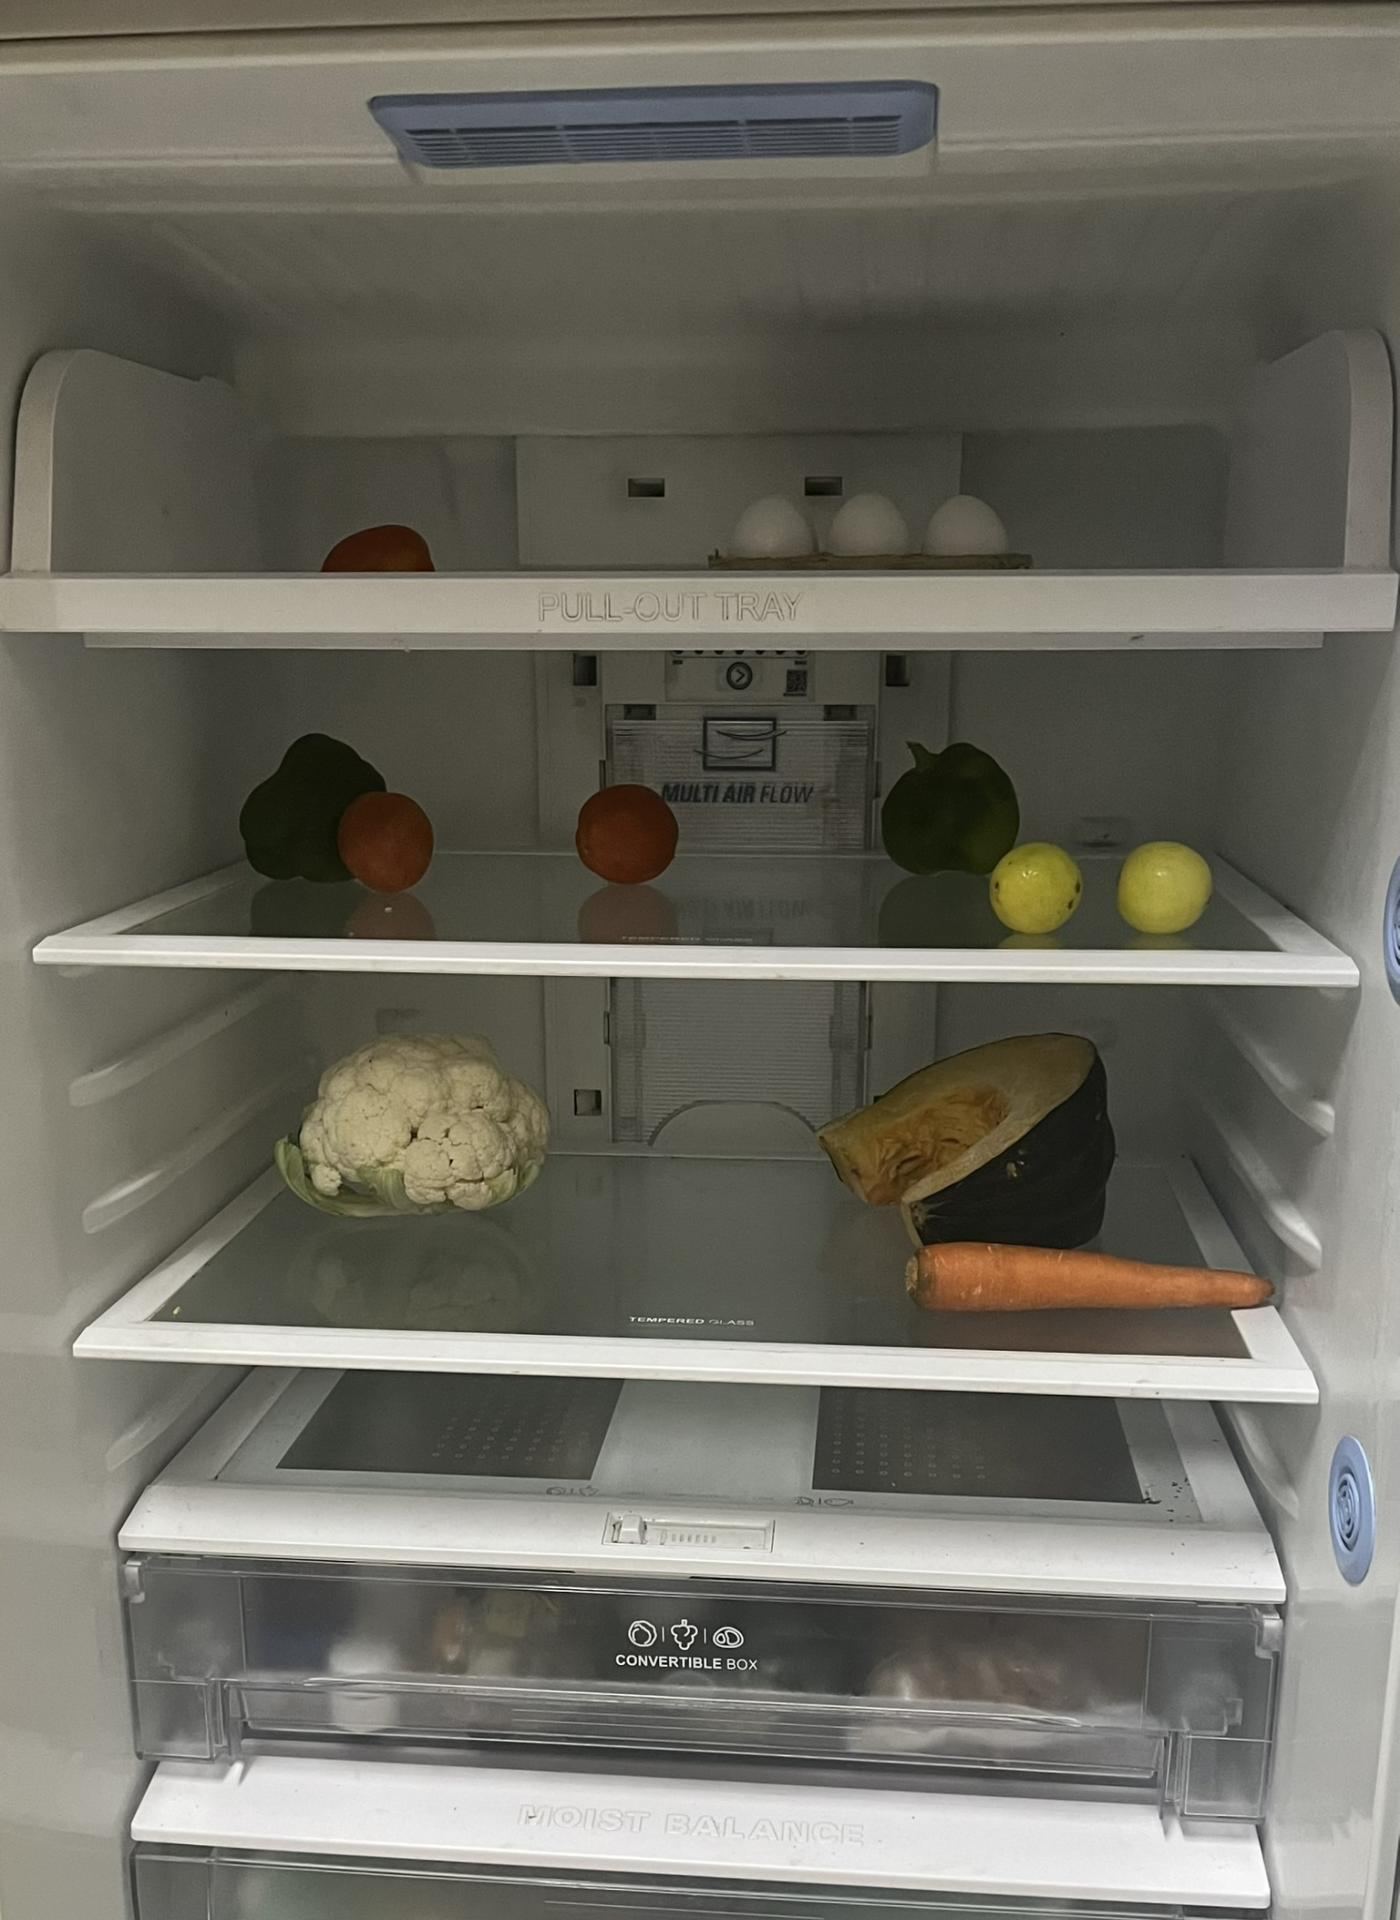capsicum: (239, 736, 388, 890), (883, 741, 1030, 881)
carrots: (918, 1240, 1248, 1310)
cauliflower: (276, 1035, 552, 1212)
egg: (737, 486, 1020, 563)
lemon: (1112, 836, 1221, 927), (977, 841, 1084, 929)
pumpkin: (824, 1026, 1124, 1236)
tomato: (577, 787, 683, 891), (340, 790, 437, 890), (324, 525, 441, 581)
